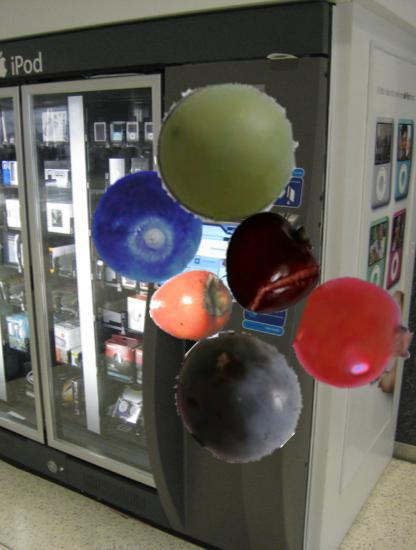Cherry: (218, 212, 321, 315)
Grape: (154, 79, 299, 224)
Huckleberry: (89, 171, 204, 286)
Kaki: (149, 264, 235, 350)
Plum: (171, 329, 305, 463)
Redcurrant: (299, 279, 414, 394)
